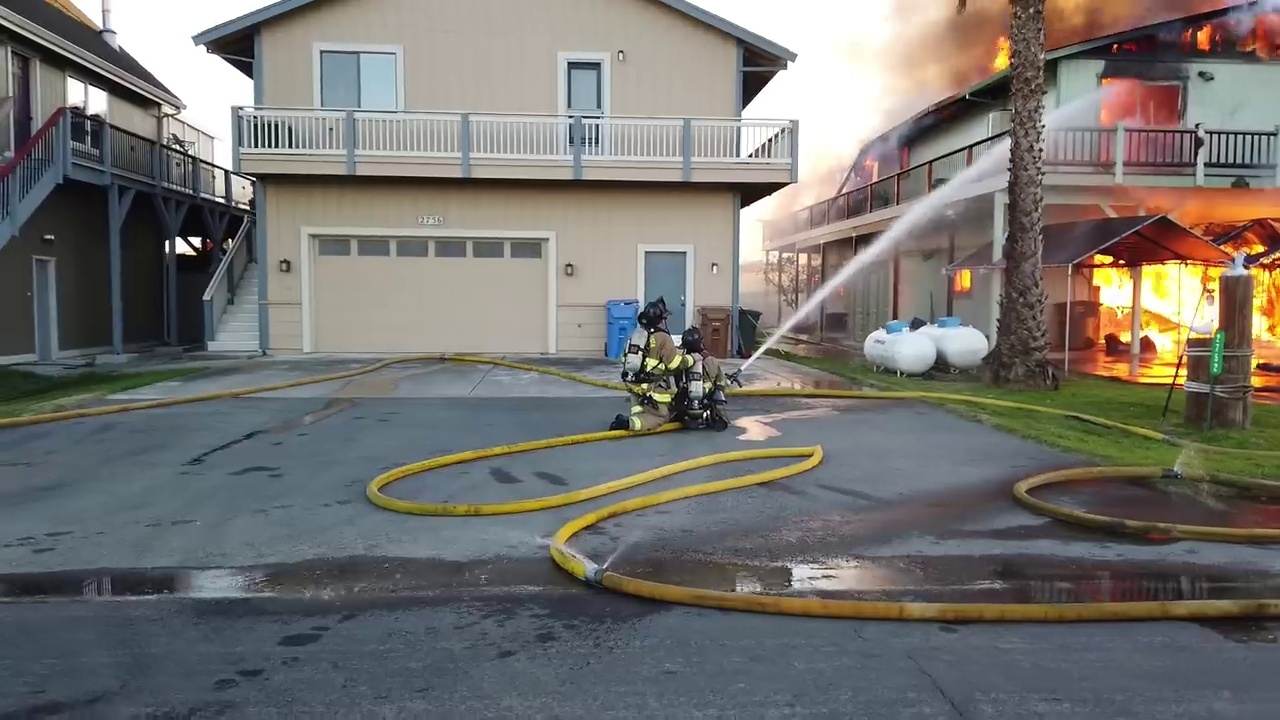fire: (1087, 262, 1218, 336), (1099, 76, 1180, 124), (1254, 268, 1280, 357), (1188, 19, 1219, 51), (989, 33, 1012, 72), (951, 265, 975, 291), (863, 158, 881, 181), (899, 147, 909, 170)
smoke: (842, 1, 987, 84), (852, 88, 986, 135), (802, 134, 864, 192), (1042, 1, 1228, 18), (770, 196, 847, 224), (1092, 18, 1175, 40), (1229, 3, 1280, 29), (1043, 18, 1080, 52)
